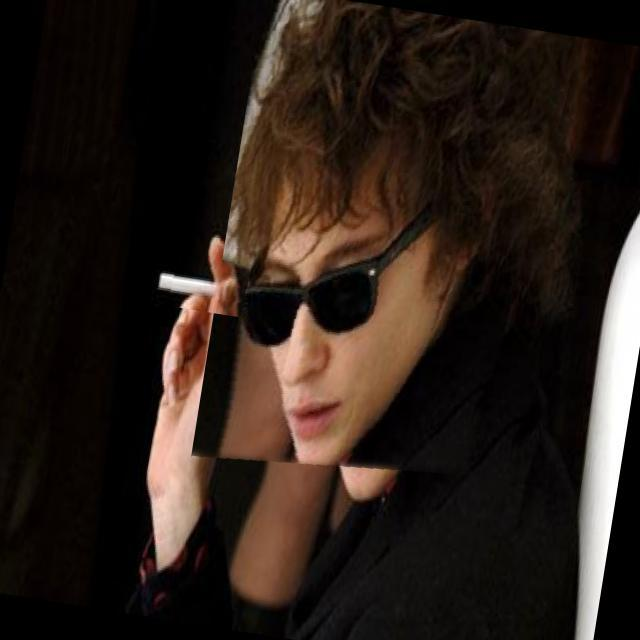cigarette: (148, 250, 252, 318)
